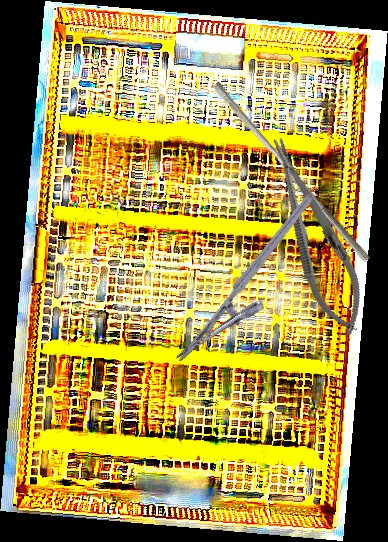Needle Holder: (174, 193, 337, 381), (254, 128, 378, 343)
Pusher: (205, 80, 378, 264)
